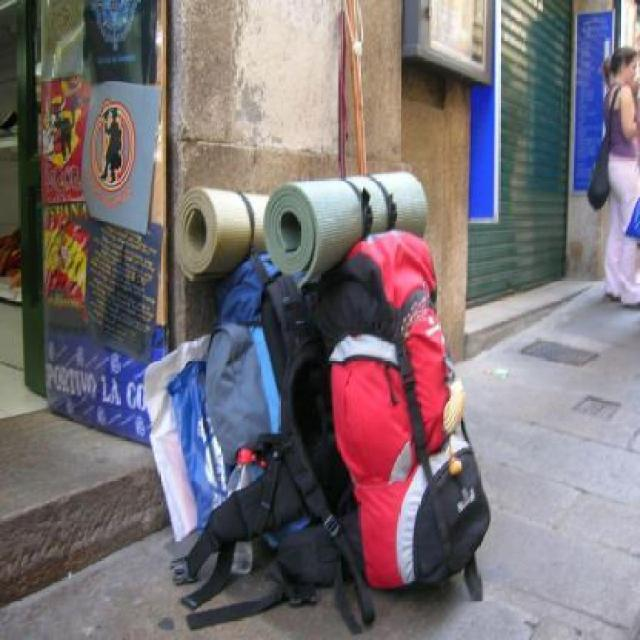backpack: (312, 223, 496, 603), (188, 253, 334, 604)
